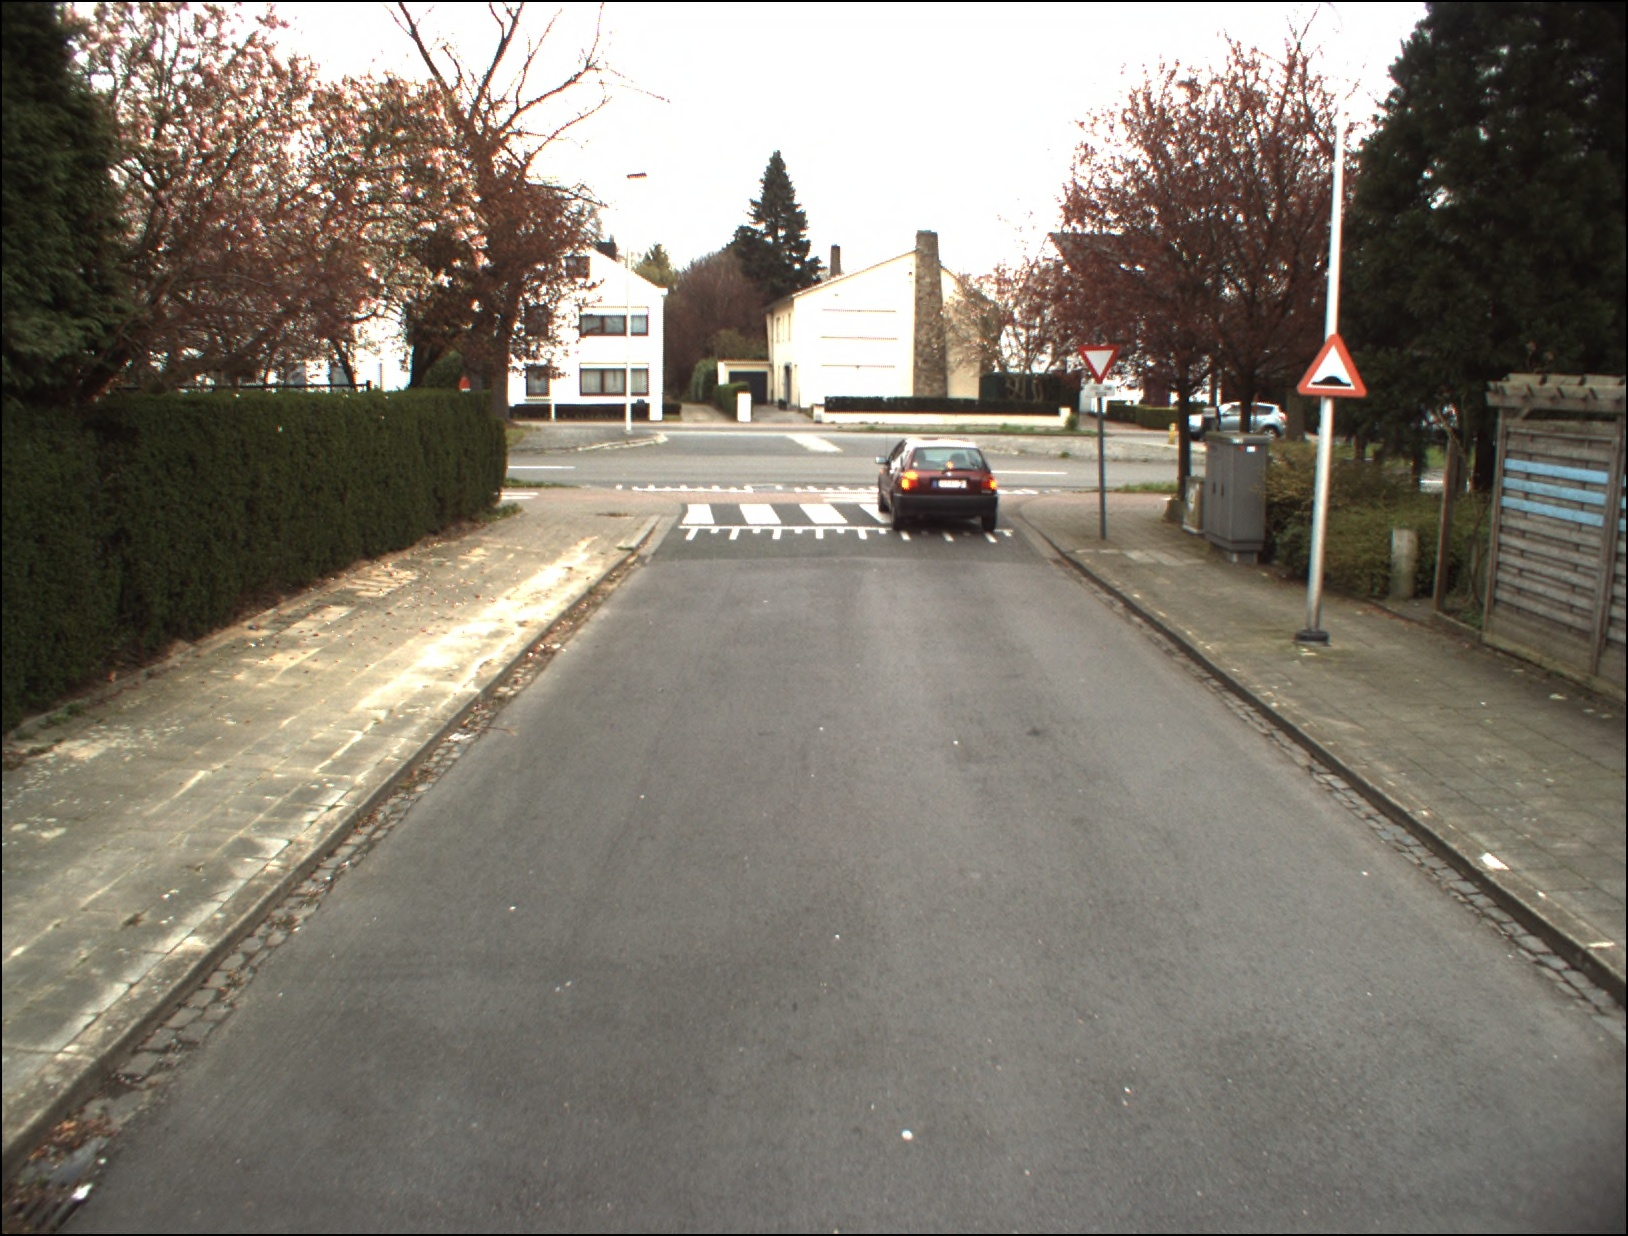giveway: (1078, 341, 1119, 386)
speedbump: (1297, 335, 1368, 397)
